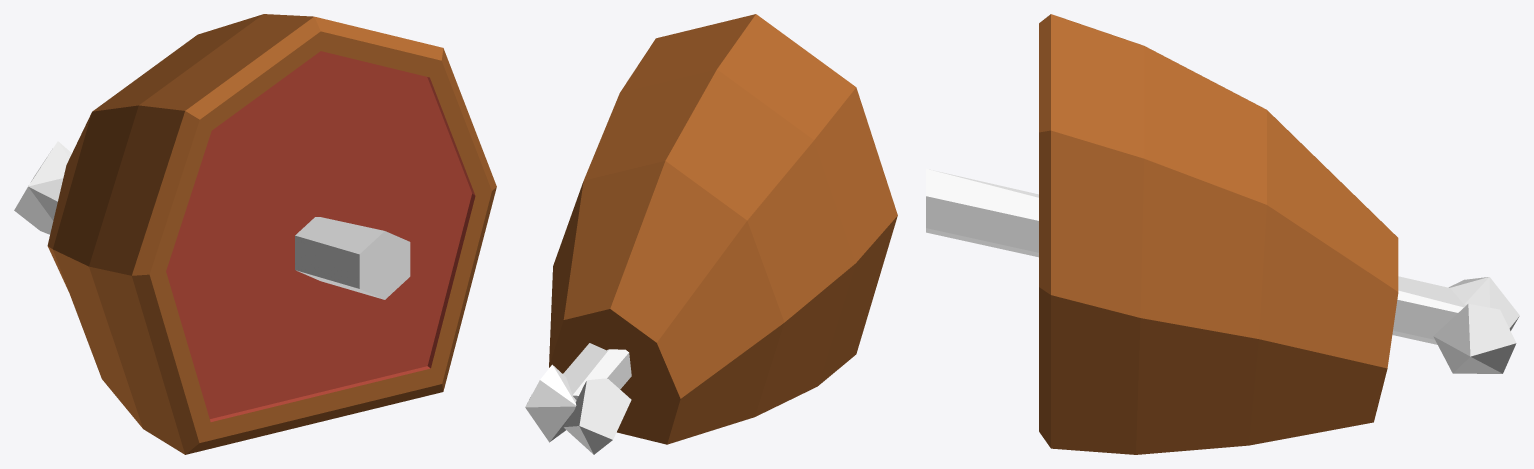
The model's file is Meat_3.fbx.
3 renders of one model, left to right at view 1: azimuth 30°, elevation 25°; view 2: azimuth 150°, elevation 25°; view 3: azimuth 270°, elevation 25°, orthographic. The views are drawn at different scales.
Visible parts, largest first — view 1: Meat 3; view 2: Meat 3; view 3: Meat 3.
Part boxes in pixels (x1,y1,x2,y2): Meat 3: (14, 14, 496, 454); Meat 3: (525, 14, 897, 454); Meat 3: (926, 14, 1519, 454).
Bounding box in the file's own units: 22.98 × 25 × 35.01.
